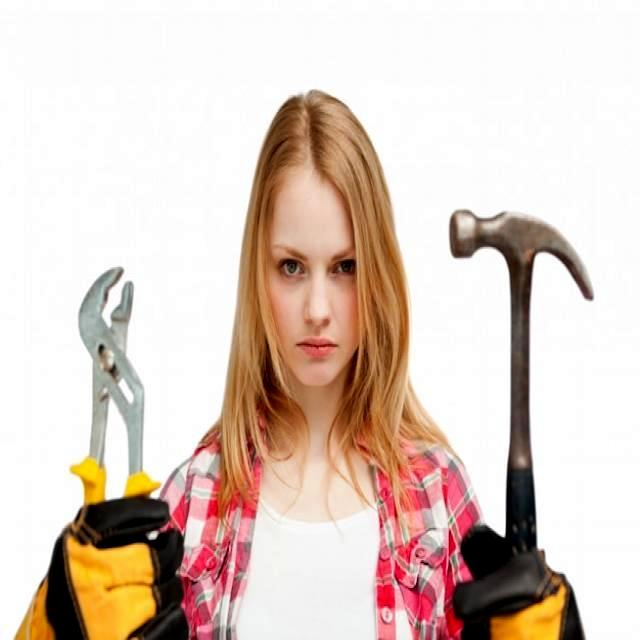hammer: (439, 198, 601, 570)
